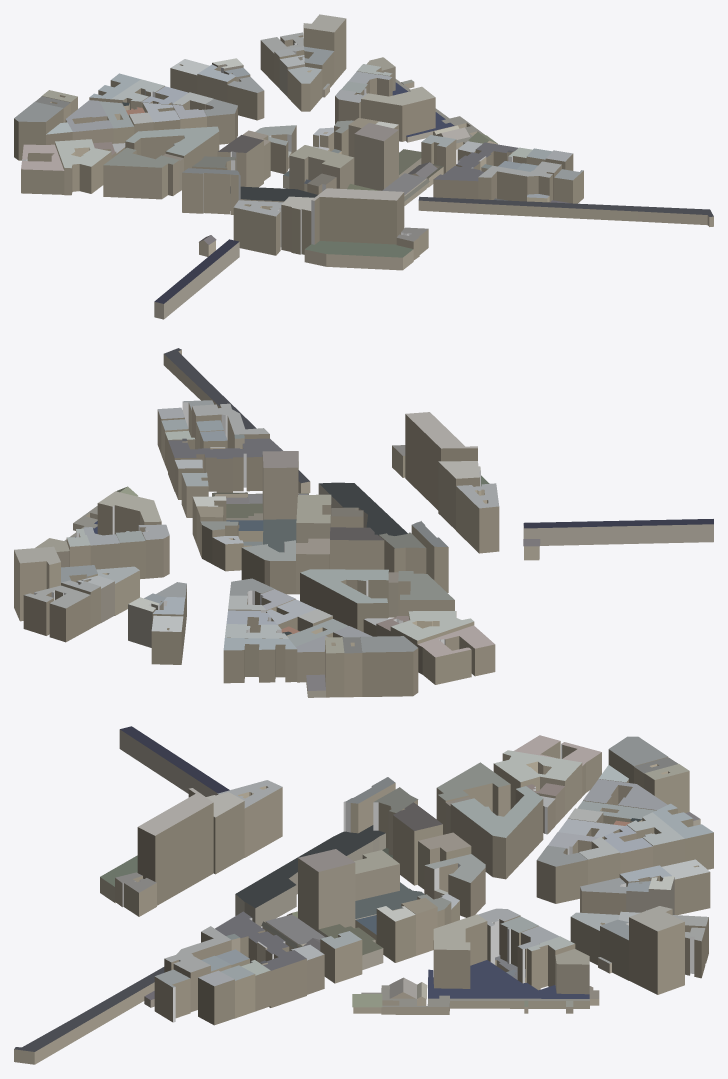
3 renders of one model, top to bottom at view 1: azimuth 30°, elevation 25°; view 2: azimuth 150°, elevation 25°; view 3: azimuth 270°, elevation 25°, orthographic. The views are drawn at different scales.
Visible parts, largest first — view 1: tuile; view 2: tuile; view 3: tuile.
Part boxes in pixels (box(x1,y1,x2,y2)): tuile: box(14, 14, 713, 319); tuile: box(14, 348, 713, 697); tuile: box(14, 726, 713, 1064).
Size of the model in its own units: 337 by 36.82 by 313.
